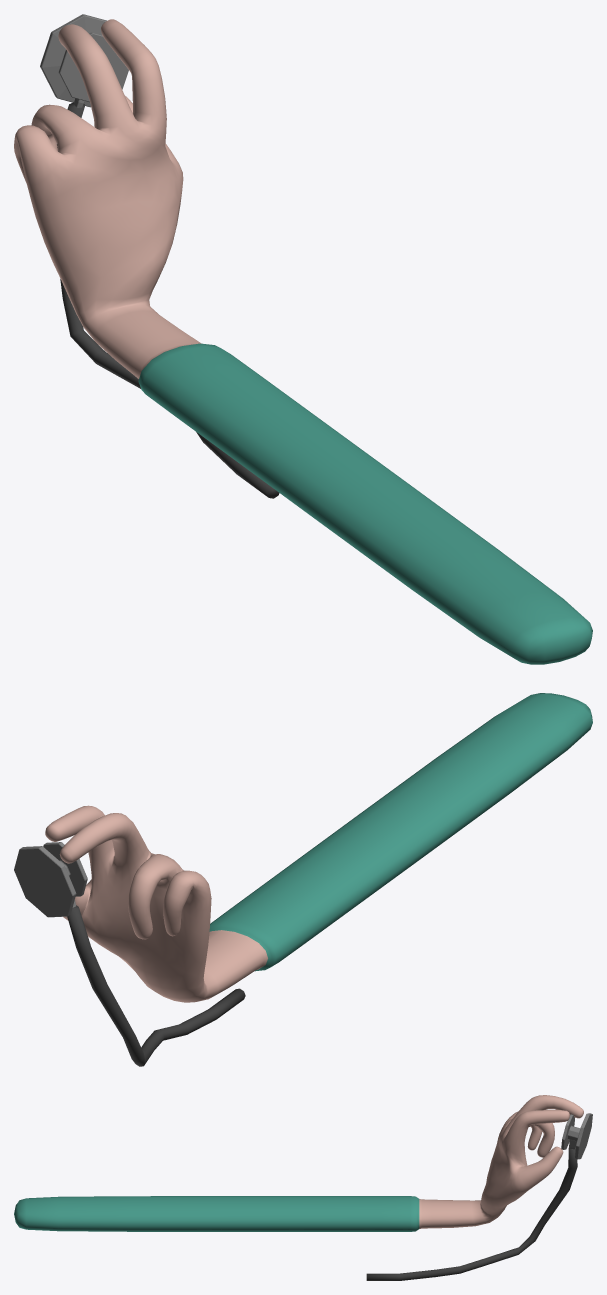
The model's file is handdoctor.fbx.
3 views of the same model, one above another, from view 1: azimuth 30°, elevation 25°; view 2: azimuth 150°, elevation 25°; view 3: azimuth 270°, elevation 25° (orthographic). The views are drawn at different scales.
Visible parts, largest first — view 1: el.001, Cylinder; view 2: el.001, Cylinder; view 3: el.001, Cylinder.
Part boxes in pixels (x1,y1,x2,y2): el.001: [14, 19, 592, 664]; Cylinder: [40, 14, 279, 498]; el.001: [45, 693, 592, 1002]; Cylinder: [14, 842, 245, 1066]; el.001: [14, 1095, 583, 1231]; Cylinder: [366, 1113, 592, 1280].
Bounding box in the file's own units: 194 × 383 × 1115.
